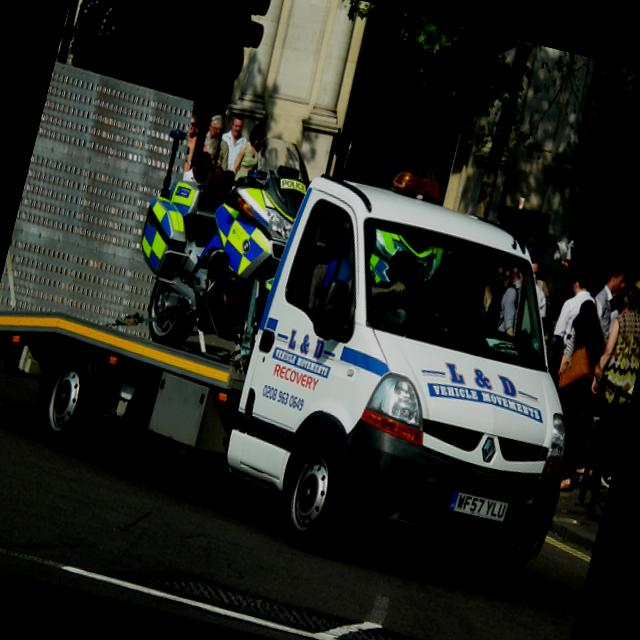Vehicle: (0, 64, 630, 603), (116, 110, 319, 368)
